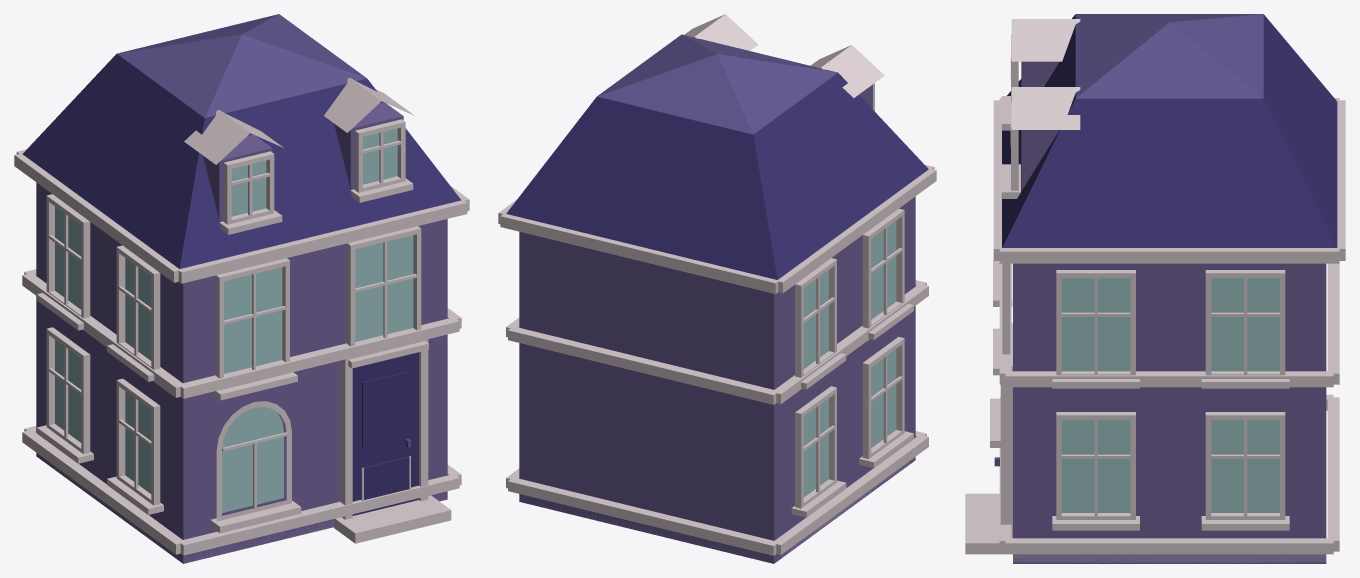
File: ochre-mansard.glb
The picture shows the model from 3 angles, left to right: view 1: azimuth 30°, elevation 25°; view 2: azimuth 150°, elevation 25°; view 3: azimuth 270°, elevation 25°; orthographic projection. The views are drawn at different scales.
Parts seen in each view (by area): view 1: scenery; view 2: scenery; view 3: scenery.
Part boxes in pixels (box(x1,y1,x2,y2)): scenery: box(14, 14, 469, 563); scenery: box(498, 14, 936, 563); scenery: box(965, 14, 1345, 563).
Bounding box in the file's own units: 3.04 × 4.33 × 3.16.
